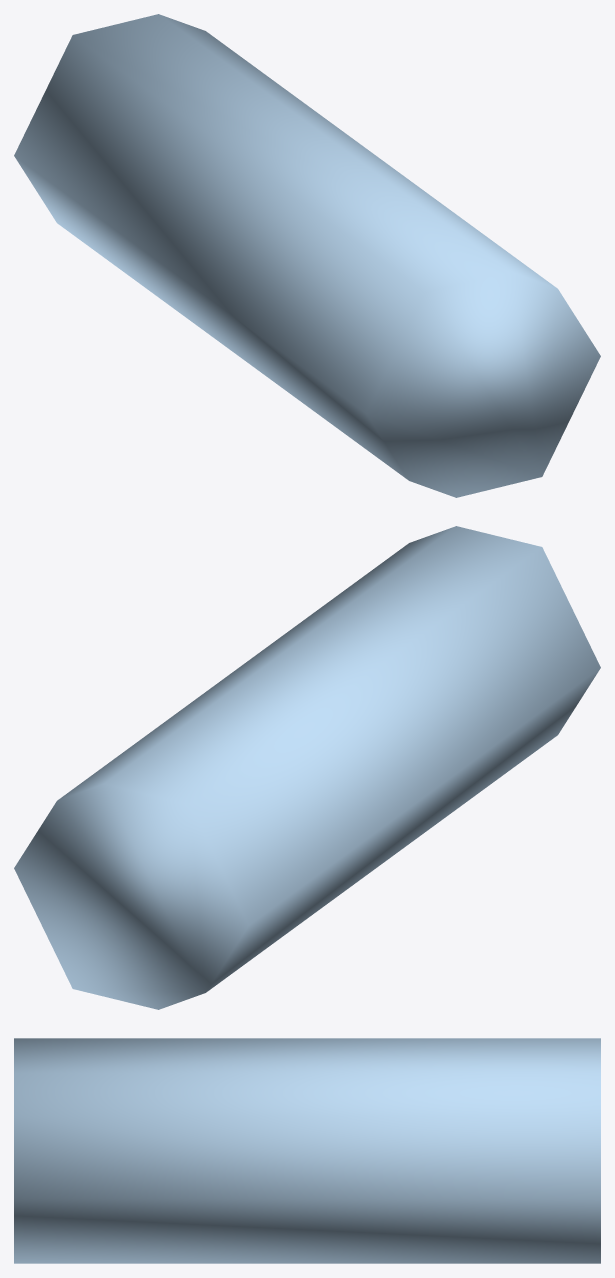
Rendered from heliodor.glb.
3 renders of one model, top to bottom at view 1: azimuth 30°, elevation 25°; view 2: azimuth 150°, elevation 25°; view 3: azimuth 270°, elevation 25°, orthographic. The views are drawn at different scales.
Visible parts, largest first — view 1: heliodor; view 2: heliodor; view 3: heliodor.
Boxes of the visible parts, x1,y1,x2,y2 form: heliodor: [14, 14, 600, 497]; heliodor: [14, 526, 600, 1009]; heliodor: [14, 1038, 600, 1263].
Size of the model in its own units: 0.4619 by 0.4 by 1.2.
